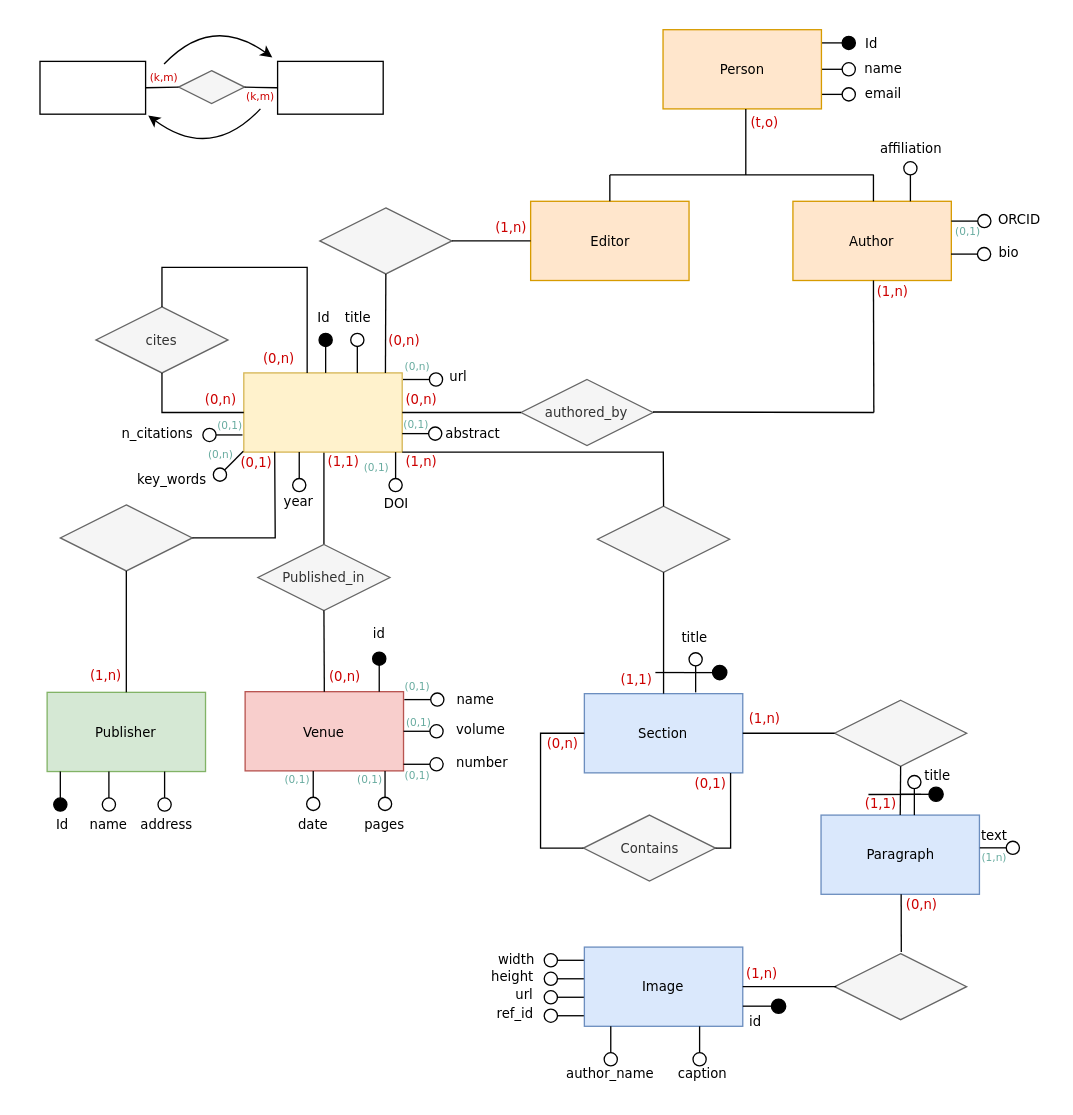
This 1073x1115 diagram has some shape labels left out. The shapes that lost their labels are listed below. From the top down, each one's centre as x and y in pixels, then its label:
At point (385, 240): "edited_by".
At point (322, 412): "Publication".
At point (125, 537): "p_published_by".
At point (663, 538): "Composed_by".
At point (900, 732): "is_contained".
At point (900, 986): "has".
